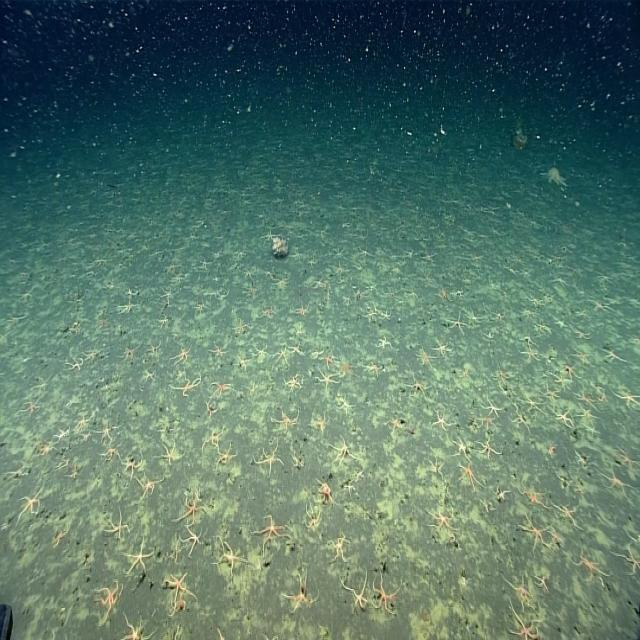brittle-stars: (567, 544, 613, 588), (508, 605, 544, 640), (286, 574, 314, 612), (256, 516, 289, 548), (164, 570, 195, 604), (600, 467, 632, 499), (127, 538, 155, 574), (96, 581, 122, 617), (343, 576, 369, 612), (520, 516, 549, 548), (374, 577, 398, 615), (218, 539, 244, 574), (119, 615, 154, 640), (16, 485, 41, 519), (312, 479, 341, 507), (256, 444, 284, 472), (177, 493, 202, 524), (508, 574, 533, 604), (553, 499, 580, 526), (519, 481, 546, 508), (333, 438, 358, 467), (427, 506, 456, 531), (613, 385, 640, 411), (172, 373, 200, 398), (620, 544, 640, 579), (3, 461, 33, 484), (96, 443, 124, 467), (106, 512, 129, 541), (476, 436, 501, 462), (51, 519, 70, 552), (330, 534, 351, 563), (180, 526, 203, 552), (512, 404, 532, 433), (275, 408, 299, 432), (524, 392, 547, 417), (160, 443, 183, 467), (215, 442, 237, 467), (310, 409, 330, 436), (575, 388, 599, 410), (138, 474, 159, 499), (459, 464, 480, 489), (408, 374, 428, 400), (477, 398, 500, 420), (428, 452, 445, 481), (553, 408, 575, 430), (482, 394, 504, 416), (315, 369, 338, 390), (124, 453, 144, 477), (433, 408, 452, 433), (416, 346, 436, 369), (203, 426, 223, 449), (38, 437, 56, 462), (306, 505, 322, 533), (20, 396, 42, 416), (210, 379, 233, 398), (540, 382, 560, 403), (448, 312, 467, 334), (493, 365, 512, 387), (454, 438, 471, 462), (172, 345, 192, 365), (432, 338, 452, 358), (386, 414, 406, 434), (572, 348, 593, 367), (520, 344, 540, 363), (560, 359, 579, 379), (340, 356, 357, 378), (204, 395, 218, 421), (284, 373, 303, 392), (97, 422, 115, 442), (64, 460, 82, 480), (274, 346, 290, 368), (84, 345, 102, 364), (65, 355, 84, 373), (118, 298, 137, 316), (323, 350, 340, 370), (338, 394, 354, 415), (209, 342, 227, 360), (552, 372, 569, 391), (233, 318, 250, 336), (61, 362, 79, 379), (273, 274, 290, 291), (253, 344, 269, 362), (365, 359, 381, 377), (123, 343, 138, 362), (160, 286, 176, 302), (294, 302, 308, 320), (76, 413, 90, 431), (171, 272, 186, 288), (191, 300, 207, 315), (288, 342, 302, 359), (378, 335, 392, 352), (362, 306, 376, 323), (142, 366, 156, 382), (380, 308, 392, 324)
